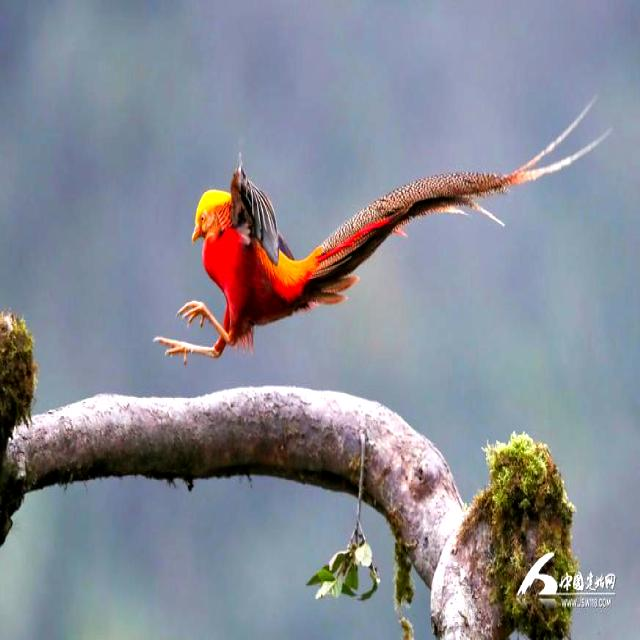Chrysolophus pictus feather: (286, 97, 612, 316)
